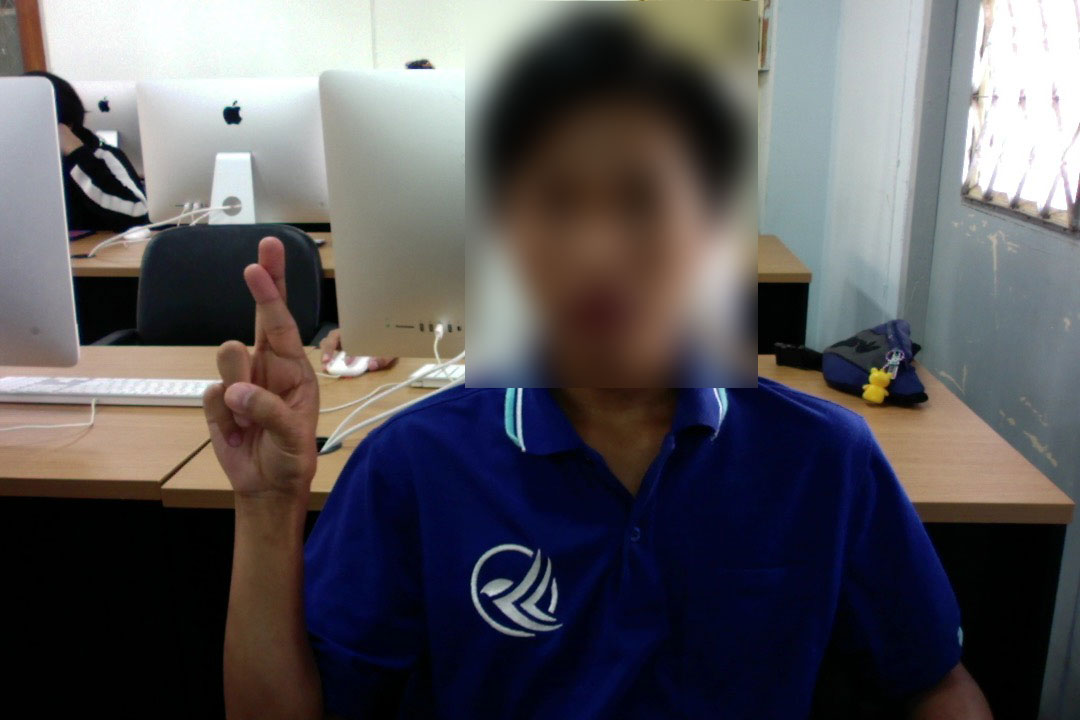rao: (193, 235, 342, 506)
